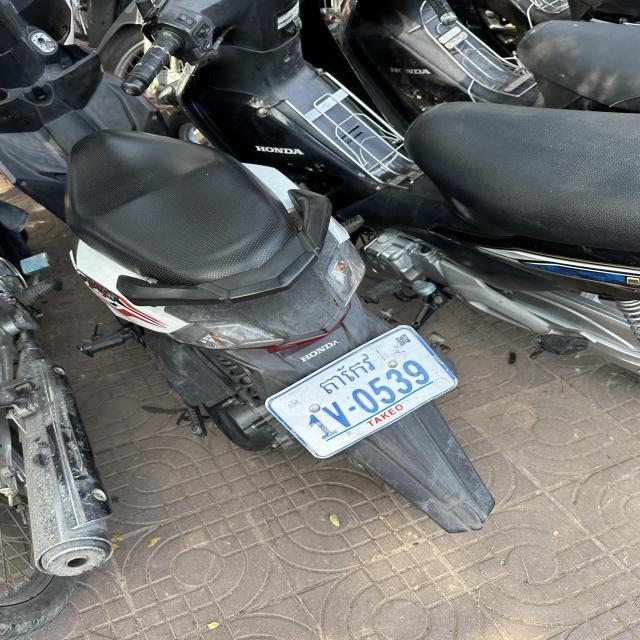Takeo: (315, 350, 376, 394)
